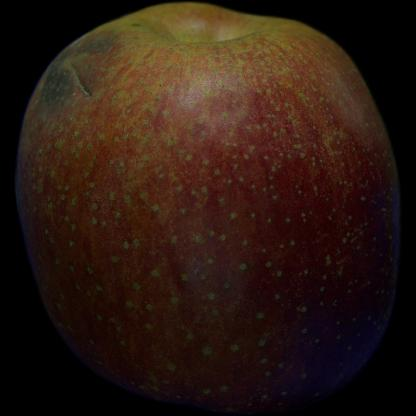defect: (26, 36, 116, 134)
